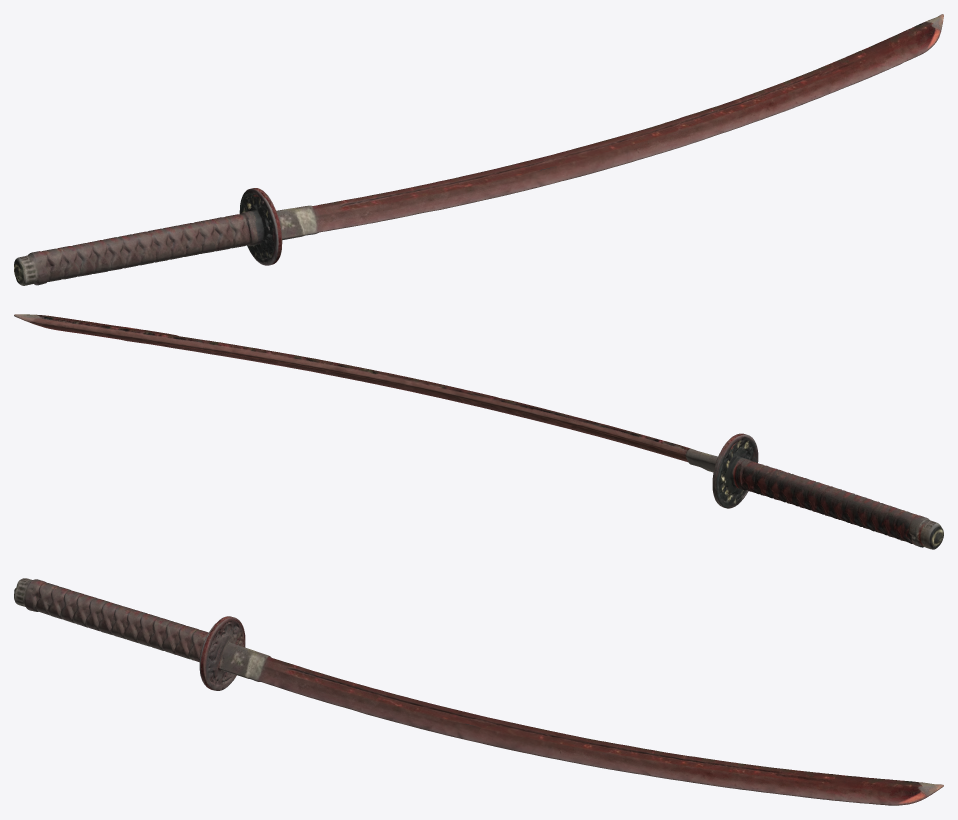
Rendered from Katana.fbx.
3 views of the same model, one above another, from view 1: azimuth 30°, elevation 25°; view 2: azimuth 150°, elevation 25°; view 3: azimuth 330°, elevation 25° (orthographic). The views are drawn at different scales.
Parts seen in each view (by area): view 1: output_unwrapped; view 2: output_unwrapped; view 3: output_unwrapped.
Part boxes in pixels (left/top/right/bottom): output_unwrapped: left=14, top=14, right=943, bottom=285; output_unwrapped: left=14, top=314, right=943, bottom=549; output_unwrapped: left=14, top=578, right=943, bottom=805.
Size of the model in its own units: 190 by 13.7 by 19.16.
1 material, 1 textured.
